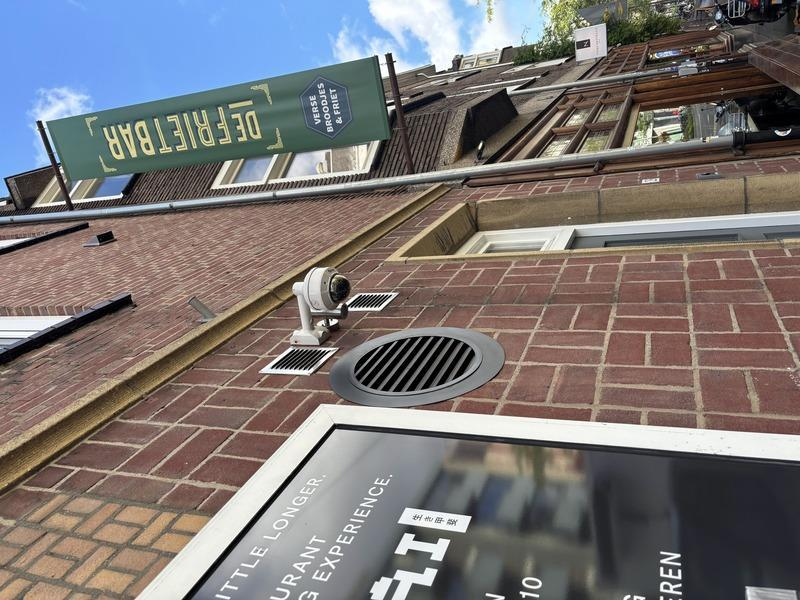dome: (279, 286, 337, 352)
